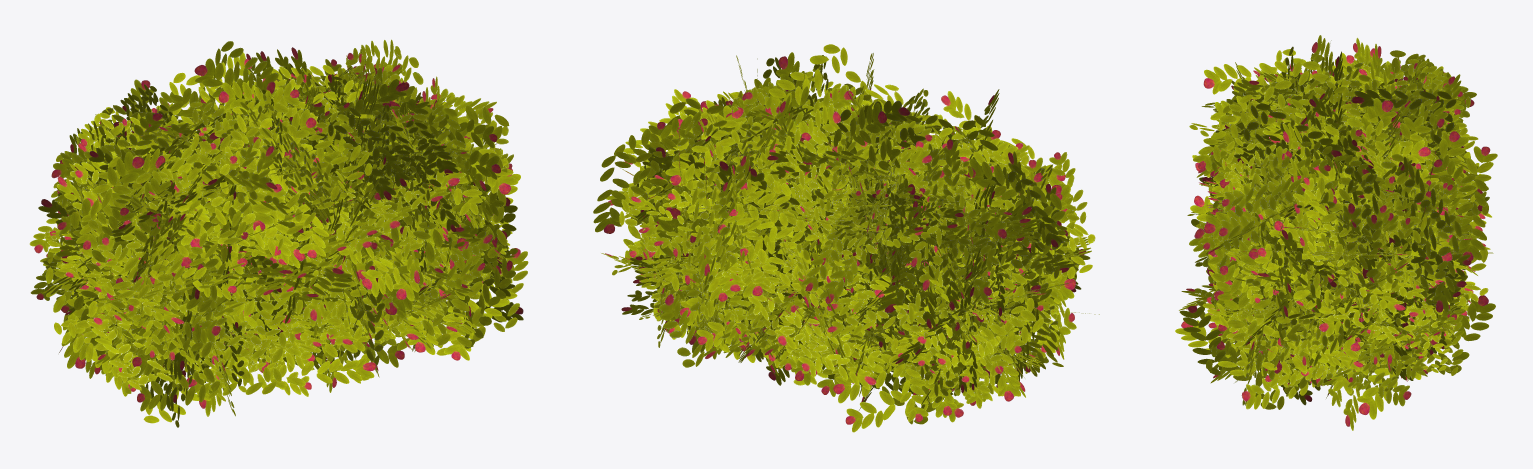
Rendered from bush red liliy.fbx.
3 views of the same model, side by side, from view 1: azimuth 30°, elevation 25°; view 2: azimuth 150°, elevation 25°; view 3: azimuth 270°, elevation 25° (orthographic). The views are drawn at different scales.
Visible parts, largest first — view 1: Bush_Branches_Red.001; view 2: Bush_Branches_Red.001; view 3: Bush_Branches_Red.001.
Part boxes in pixels (<box>): Bush_Branches_Red.001: <box>29,39,528,427</box>; Bush_Branches_Red.001: <box>593,44,1099,432</box>; Bush_Branches_Red.001: <box>1175,35,1497,430</box>.
Bounding box in the file's own units: 6.67 × 4.62 × 4.63.
1 material, 1 textured.
